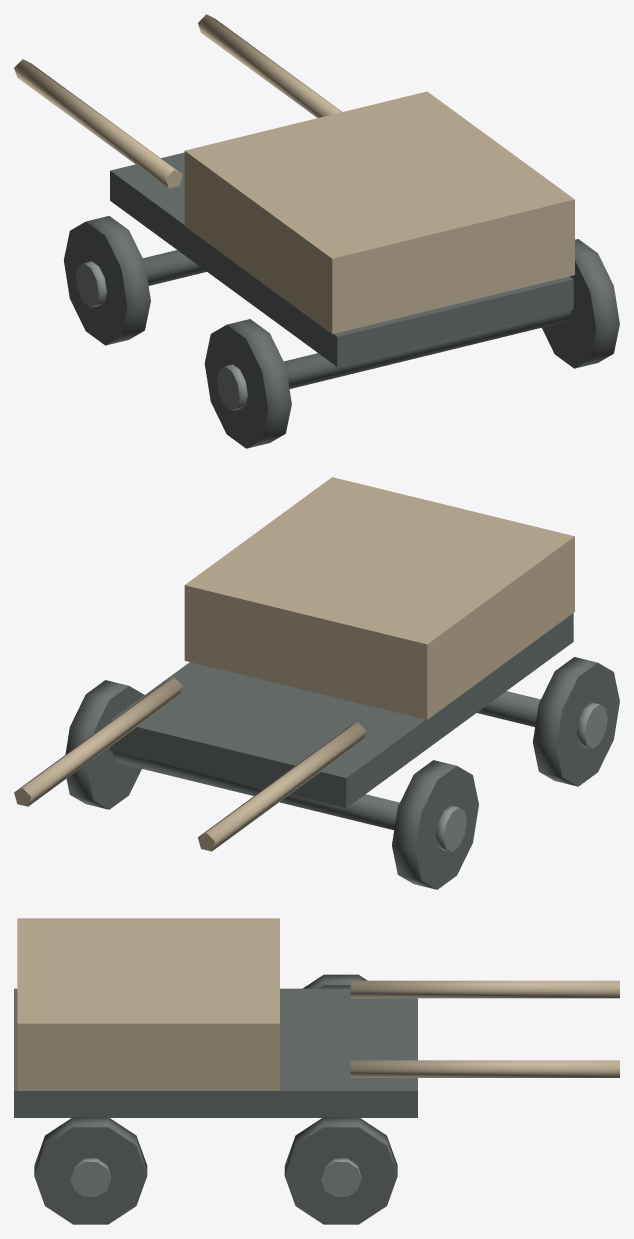
The model's file is rhine-cart_lod1.glb.
The picture shows the model from 3 angles, top to bottom: view 1: azimuth 30°, elevation 25°; view 2: azimuth 150°, elevation 25°; view 3: azimuth 270°, elevation 25°; orthographic projection. The views are drawn at different scales.
Visible parts, largest first — view 1: RF_CargoBed, RF_RoadChassis, RF_Wheel.001, RF_Wheel.003, RF_Wheel.002, RF_CartShaft.001, RF_Axle.001, RF_CartShaft, RF_Axle, RF_WheelHub.001, RF_WheelHub.003; view 2: RF_CargoBed, RF_RoadChassis, RF_Wheel.001, RF_Wheel.003, RF_Wheel, RF_CartShaft.001, RF_CartShaft, RF_Axle, RF_Axle.001, RF_WheelHub.001, RF_WheelHub.003; view 3: RF_CargoBed, RF_RoadChassis, RF_Wheel.002, RF_Wheel, RF_CartShaft.001, RF_CartShaft, RF_WheelHub.002, RF_WheelHub, RF_Wheel.003.
Part boxes in pixels (x1=…): RF_CargoBed: x1=184, y1=91, x2=574, y2=334; RF_RoadChassis: x1=110, y1=152, x2=573, y2=366; RF_Wheel.001: x1=204, y1=319, x2=291, y2=448; RF_Wheel.003: x1=63, y1=216, x2=150, y2=345; RF_Wheel.002: x1=542, y1=239, x2=619, y2=368; RF_CartShaft.001: x1=14, y1=59, x2=182, y2=188; RF_Axle.001: x1=284, y1=310, x2=571, y2=388; RF_CartShaft: x1=198, y1=14, x2=341, y2=117; RF_Axle: x1=143, y1=250, x2=206, y2=285; RF_WheelHub.001: x1=217, y1=364, x2=247, y2=410; RF_WheelHub.003: x1=76, y1=261, x2=106, y2=307; RF_CargoBed: x1=184, y1=477, x2=574, y2=719; RF_RoadChassis: x1=110, y1=613, x2=573, y2=808; RF_Wheel.001: x1=532, y1=657, x2=619, y2=786; RF_Wheel.003: x1=392, y1=760, x2=478, y2=889; RF_Wheel: x1=65, y1=680, x2=144, y2=809; RF_CartShaft.001: x1=198, y1=722, x2=366, y2=851; RF_CartShaft: x1=14, y1=677, x2=182, y2=806; RF_Axle: x1=112, y1=751, x2=399, y2=830; RF_Axle.001: x1=477, y1=691, x2=540, y2=726; RF_WheelHub.001: x1=576, y1=702, x2=607, y2=748; RF_WheelHub.003: x1=436, y1=805, x2=466, y2=851; RF_CargoBed: x1=17, y1=918, x2=279, y2=1090; RF_RoadChassis: x1=14, y1=988, x2=417, y2=1117; RF_Wheel.002: x1=34, y1=1117, x2=147, y2=1224; RF_Wheel: x1=284, y1=1117, x2=397, y2=1224; RF_CartShaft.001: x1=350, y1=980, x2=619, y2=998; RF_CartShaft: x1=350, y1=1060, x2=619, y2=1077; RF_WheelHub.002: x1=70, y1=1158, x2=110, y2=1196; RF_WheelHub: x1=321, y1=1158, x2=361, y2=1196; RF_Wheel.003: x1=303, y1=974, x2=367, y2=988.
Bounding box in the file's own units: 2.8 × 1.45 × 4.5.
